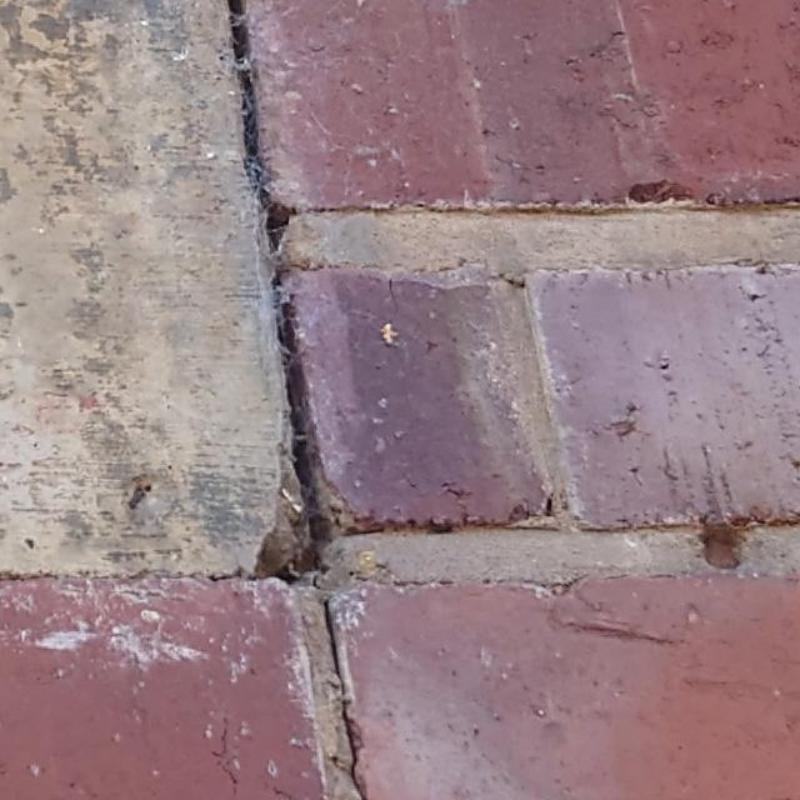pothole: (227, 0, 383, 578), (322, 600, 368, 799), (92, 566, 265, 584), (479, 269, 529, 291)
